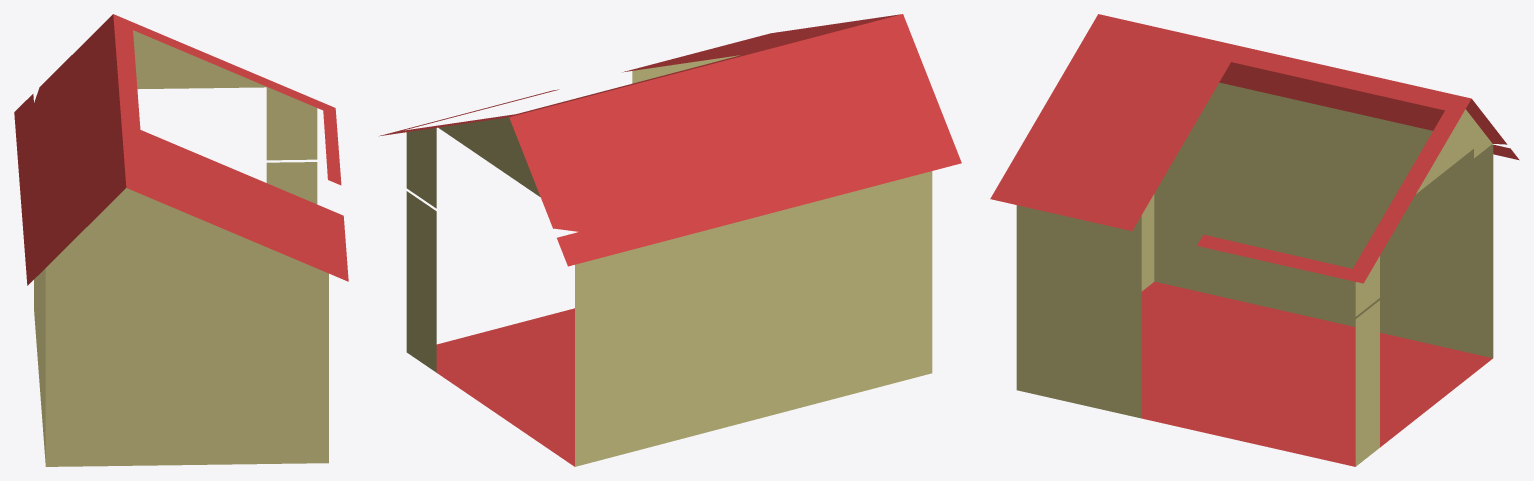
3 renders of one model, left to right at view 1: azimuth 30°, elevation 25°; view 2: azimuth 150°, elevation 25°; view 3: azimuth 270°, elevation 25°, orthographic. The views are drawn at different scales.
Size of the model in its own units: 18.77 by 20.22 by 12.4.
